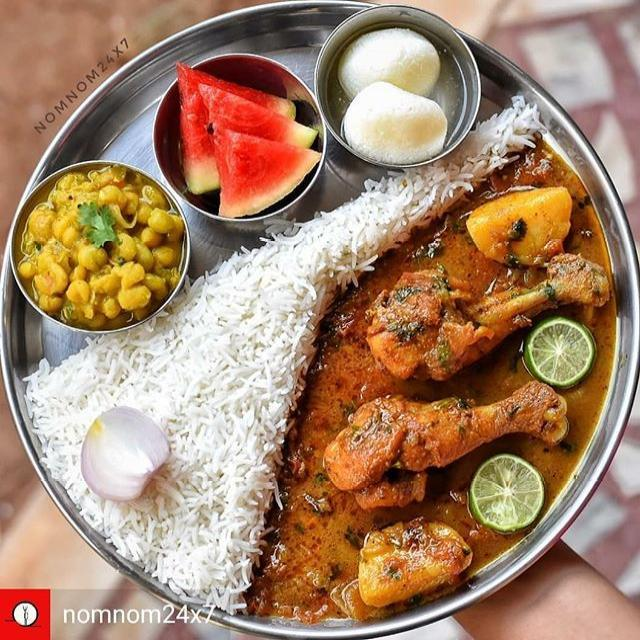non veg meals: (4, 2, 640, 640)
